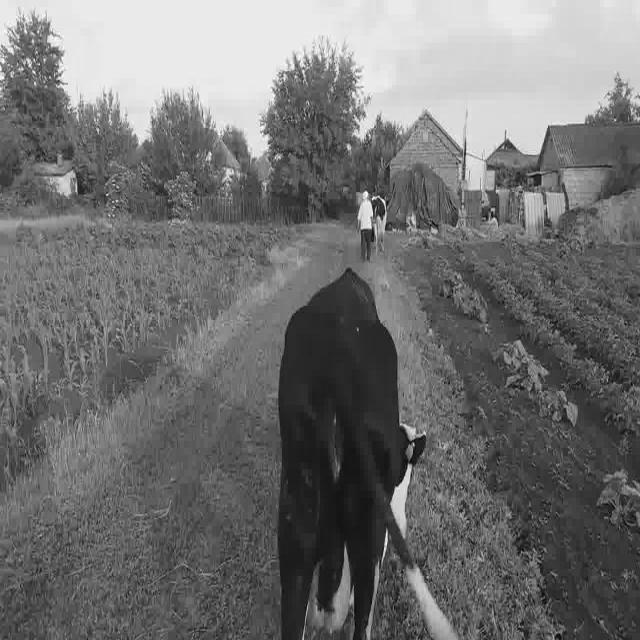cow: (278, 269, 456, 640)
